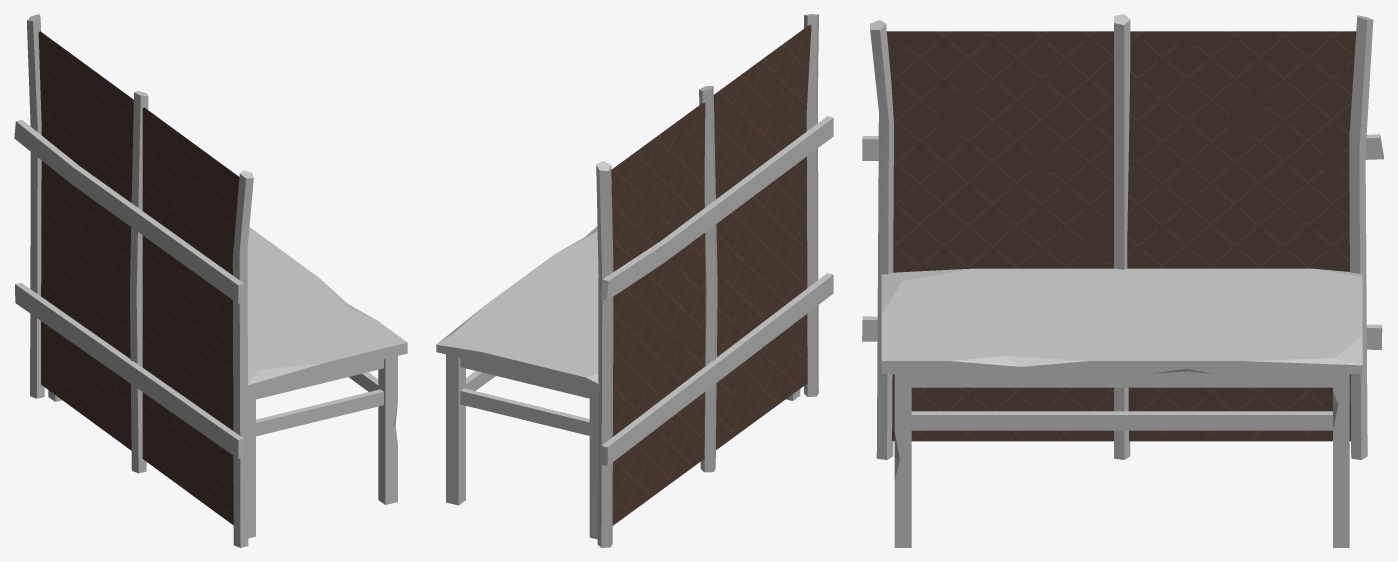
Rendered from SM_Prop_Workbench_01.fbx.
The picture shows the model from 3 angles, left to right: view 1: azimuth 30°, elevation 25°; view 2: azimuth 150°, elevation 25°; view 3: azimuth 270°, elevation 25°; orthographic projection. The views are drawn at different scales.
Visible parts, largest first — view 1: SM_Prop_Workbench_01; view 2: SM_Prop_Workbench_01; view 3: SM_Prop_Workbench_01.
Boxes of the visible parts, bbox=[...] form: SM_Prop_Workbench_01: bbox=[14, 14, 407, 547]; SM_Prop_Workbench_01: bbox=[436, 14, 833, 547]; SM_Prop_Workbench_01: bbox=[862, 14, 1383, 547].
Size of the model in its own units: 99.81 by 203 by 218.
